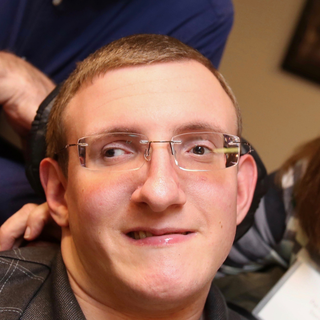eye: (93, 141, 139, 164), (178, 140, 221, 163)
